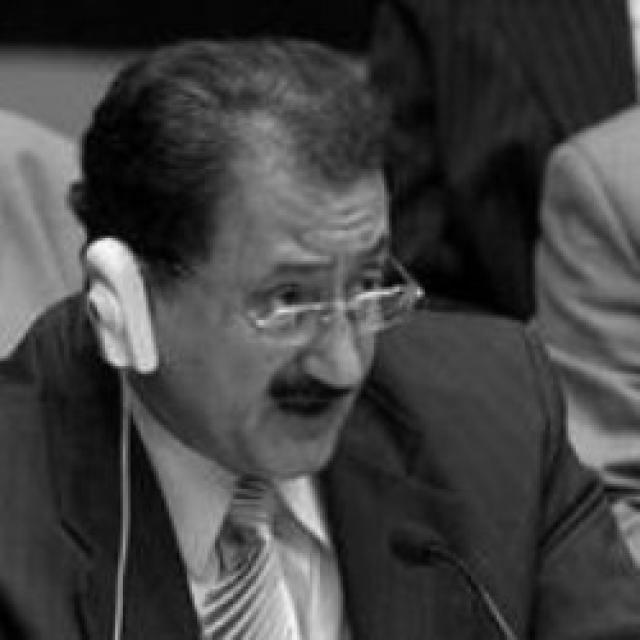real: (172, 166, 392, 482), (236, 275, 395, 327)
